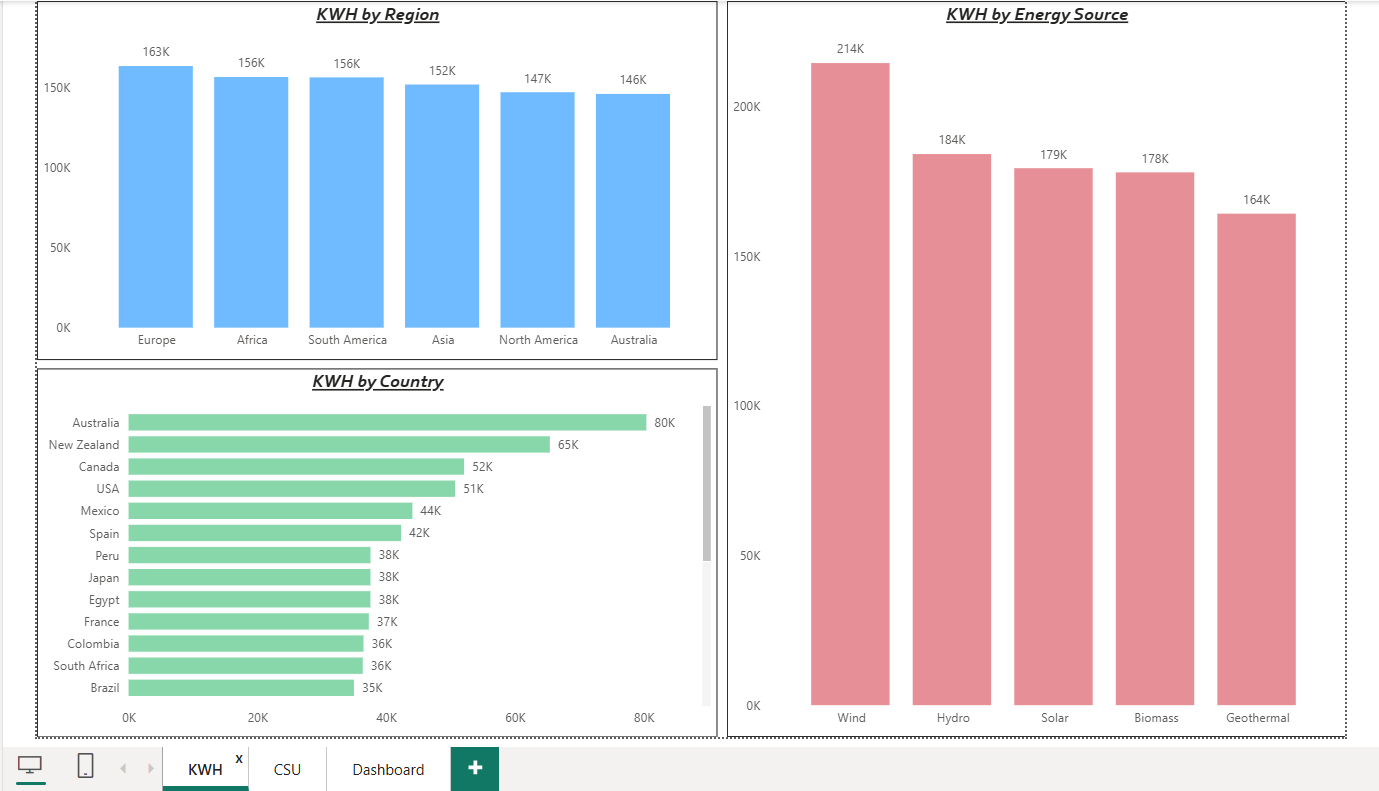

What the dashboard file says about the page in this screenshot:
{"tool":"powerbi","page":{"name":"KWH","canvas":[1280,720],"ordinal":0},"visuals":[{"type":"columnChart","title":"KWH by Region","fields":{"Category":["ENERGY_CONSUMPTION.REGION"],"Y":["Sum(ENERGY_CONSUMPTION.MONTHLY_USAGE_KWH)"]},"box":[0,0,665.2,351],"z":0},{"type":"barChart","title":"KWH by Country","fields":{"Y":["Sum(ENERGY_CONSUMPTION.MONTHLY_USAGE_KWH)"],"Category":["ENERGY_CONSUMPTION.COUNTRY"]},"box":[0,359.5,665.2,360.7],"z":1},{"type":"columnChart","title":"KWH by Energy Source","fields":{"Category":["ENERGY_CONSUMPTION.ENERGY_SOURCE"],"Y":["Sum(ENERGY_CONSUMPTION.MONTHLY_USAGE_KWH)"]},"box":[675,0,605.3,720.2],"z":2}]}

Visuals, with their boxes on the page's 1280x720 design canvas (x1, y1, x2, y2). These are canvas units, not pixel positions in the 1379x791 screenshot, which may show the page scaled, cropped or inside an application window:
"KWH by Region" columnChart: pyautogui.locateOnScreen(0, 0, 665, 351)
"KWH by Country" barChart: pyautogui.locateOnScreen(0, 360, 665, 720)
"KWH by Energy Source" columnChart: pyautogui.locateOnScreen(675, 0, 1280, 720)
